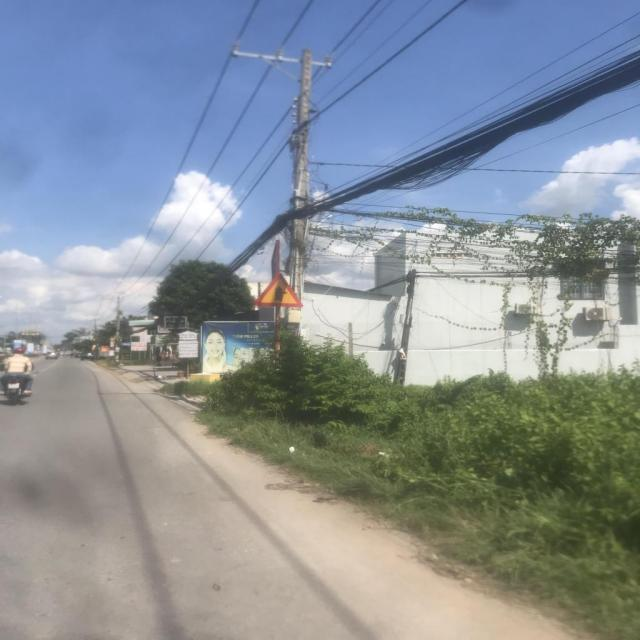giao_nhau_voi_duong_khong_uu_tien: (253, 272, 304, 307)
